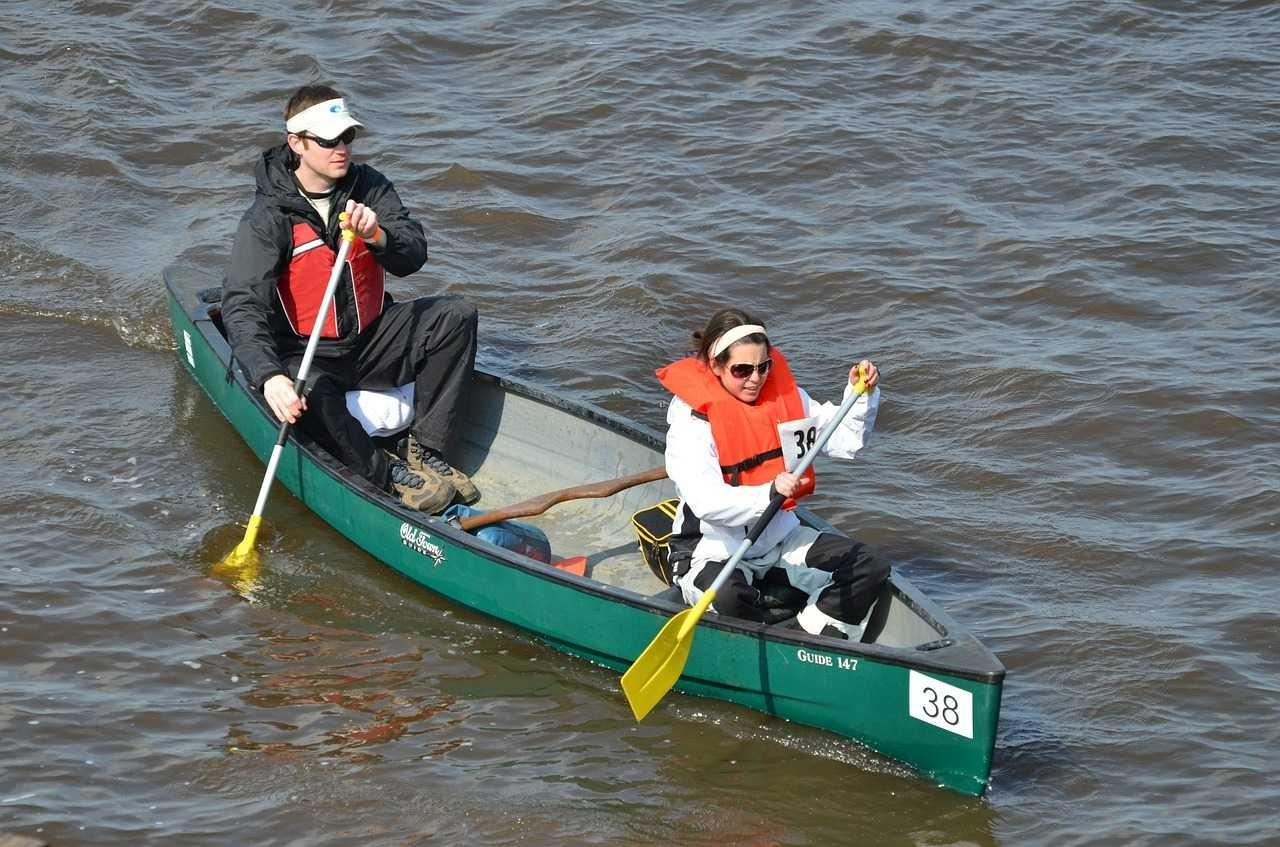kayak: (168, 262, 1003, 797)
